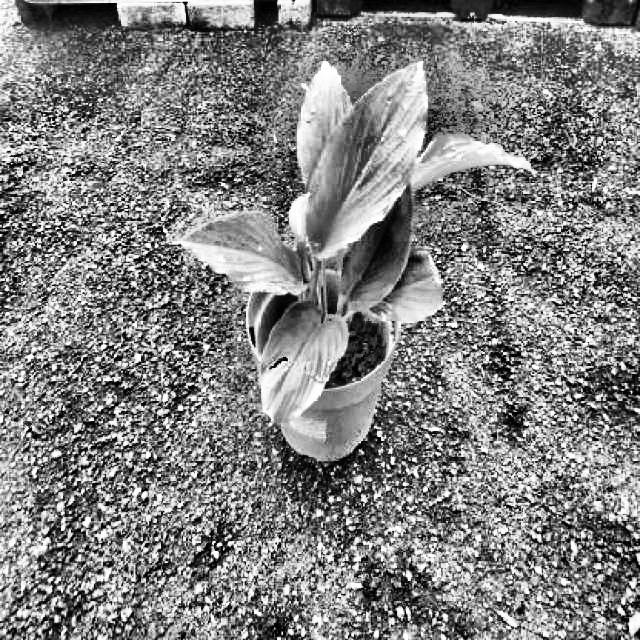plants: (172, 59, 536, 432)
